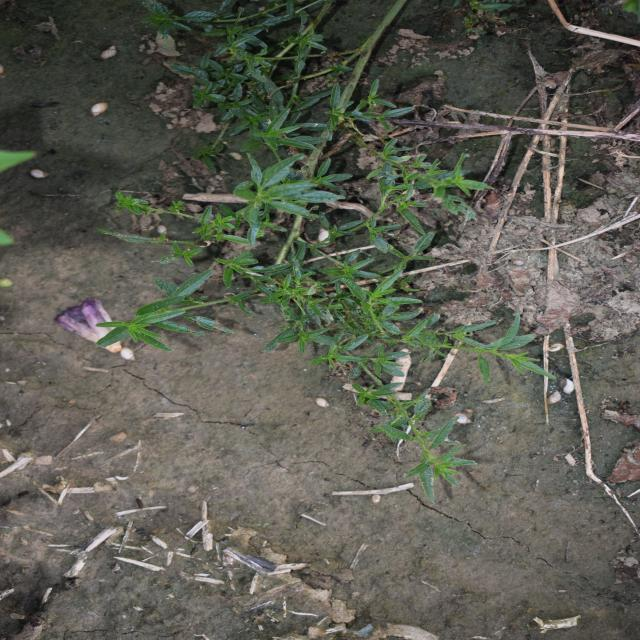Waterhemp: (92, 3, 562, 503)
